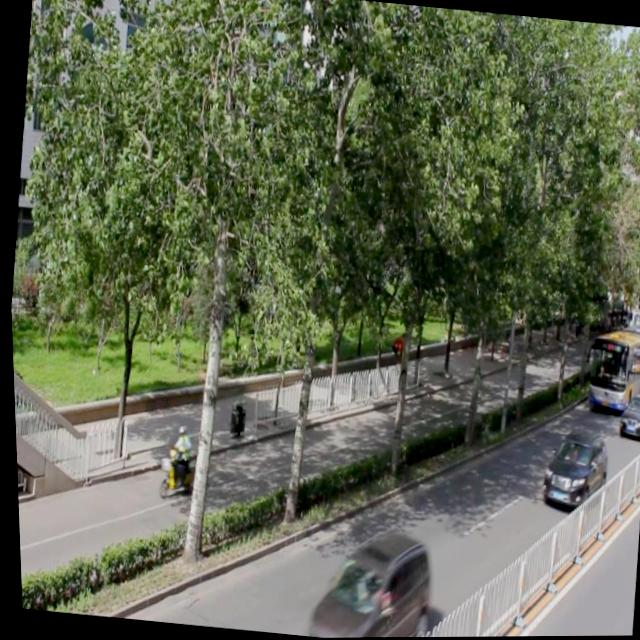car: (296, 522, 429, 638), (534, 425, 607, 513), (612, 390, 640, 440)
